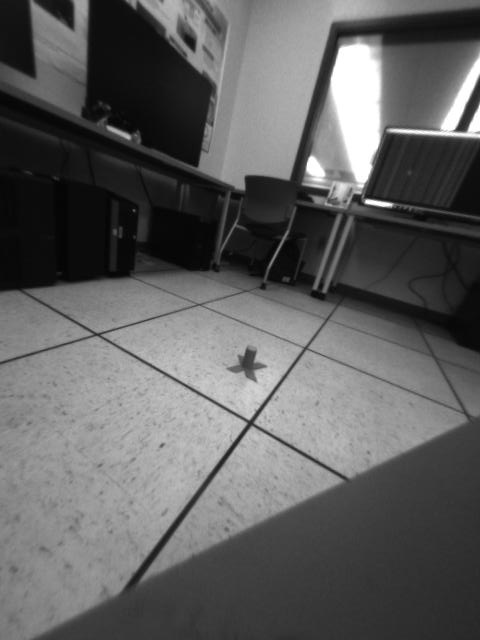X: (225, 346, 269, 384)
